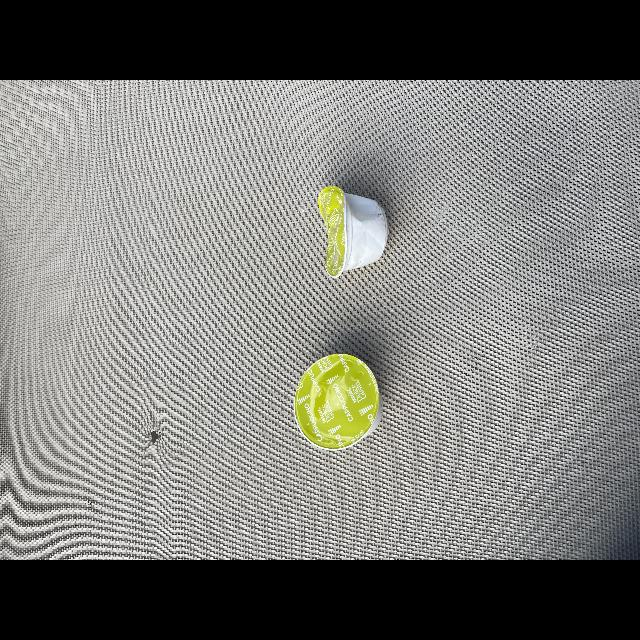damaged_capsule: (312, 182, 394, 282)
intact_capsule: (290, 351, 400, 453)
